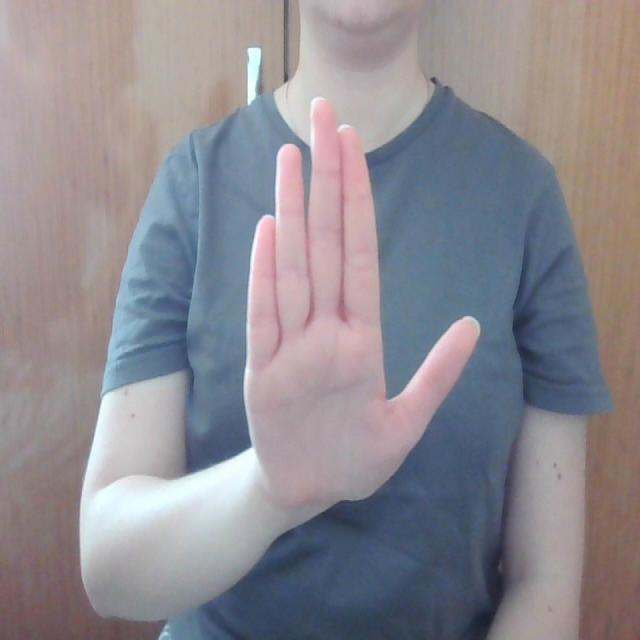Dur: (208, 87, 494, 510)
